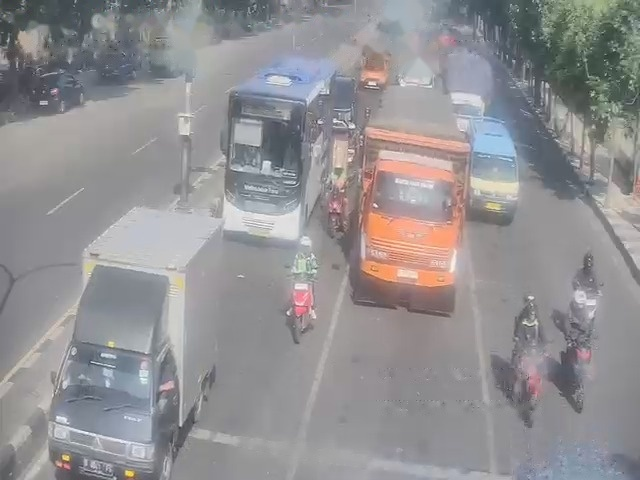Bis: (220, 56, 345, 241)
Mobil: (49, 207, 222, 479), (464, 119, 519, 220)
Motor: (513, 345, 541, 425), (561, 339, 591, 412), (287, 281, 312, 343), (570, 285, 600, 321)
Truk: (365, 96, 470, 310)
